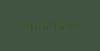four: (49, 20, 56, 30)
nine: (25, 20, 32, 31)
seven: (17, 21, 24, 31)
six: (33, 20, 40, 31), (41, 20, 48, 31), (57, 19, 64, 30), (65, 19, 72, 30), (73, 19, 80, 29)
